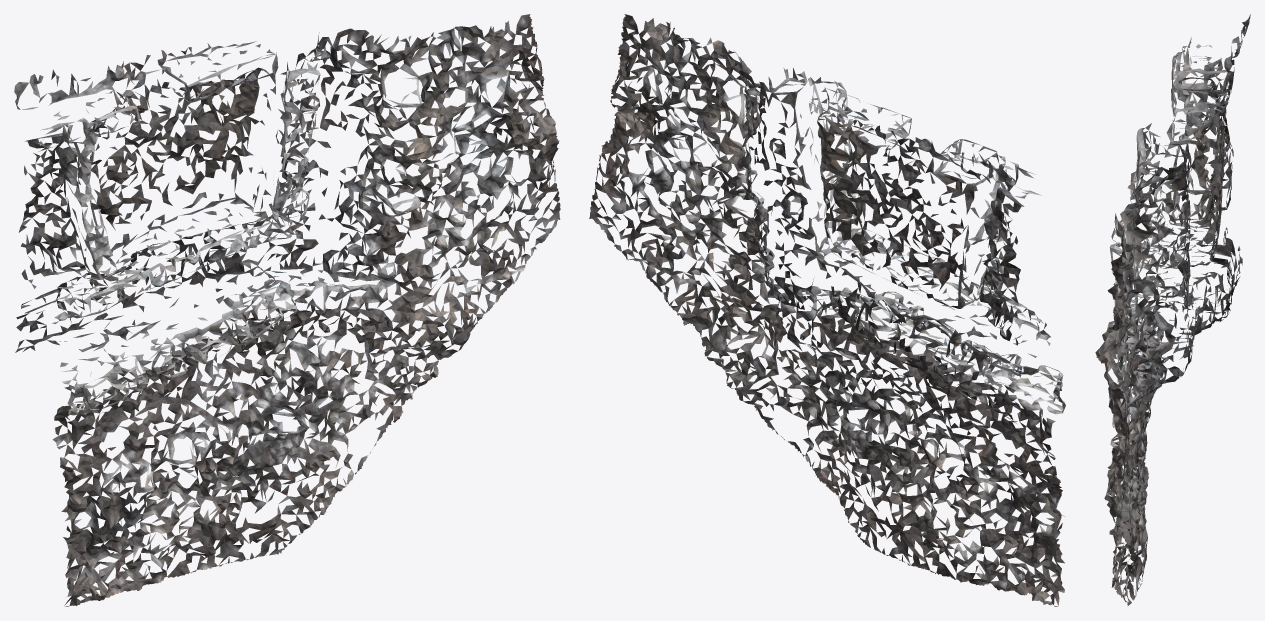
3 renders of one model, left to right at view 1: azimuth 30°, elevation 25°; view 2: azimuth 150°, elevation 25°; view 3: azimuth 270°, elevation 25°, orthographic. The views are drawn at different scales.
Size of the model in its own units: 13.59 by 12.97 by 3.59.
1 material, 1 textured.
